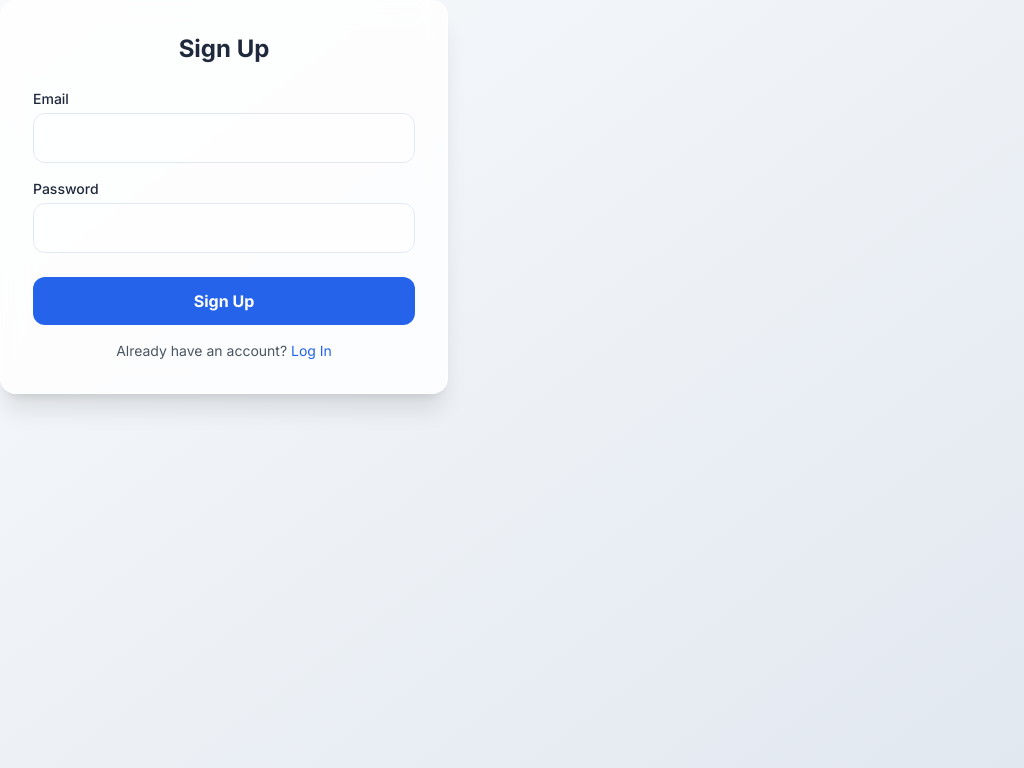
Test: auth flow › shows an error for duplicate signup email
The image size is (1024, 768).
Type "test@example.com" into the field with test id "auth-signup-email" at [224, 138], box [33, 113, 415, 163]
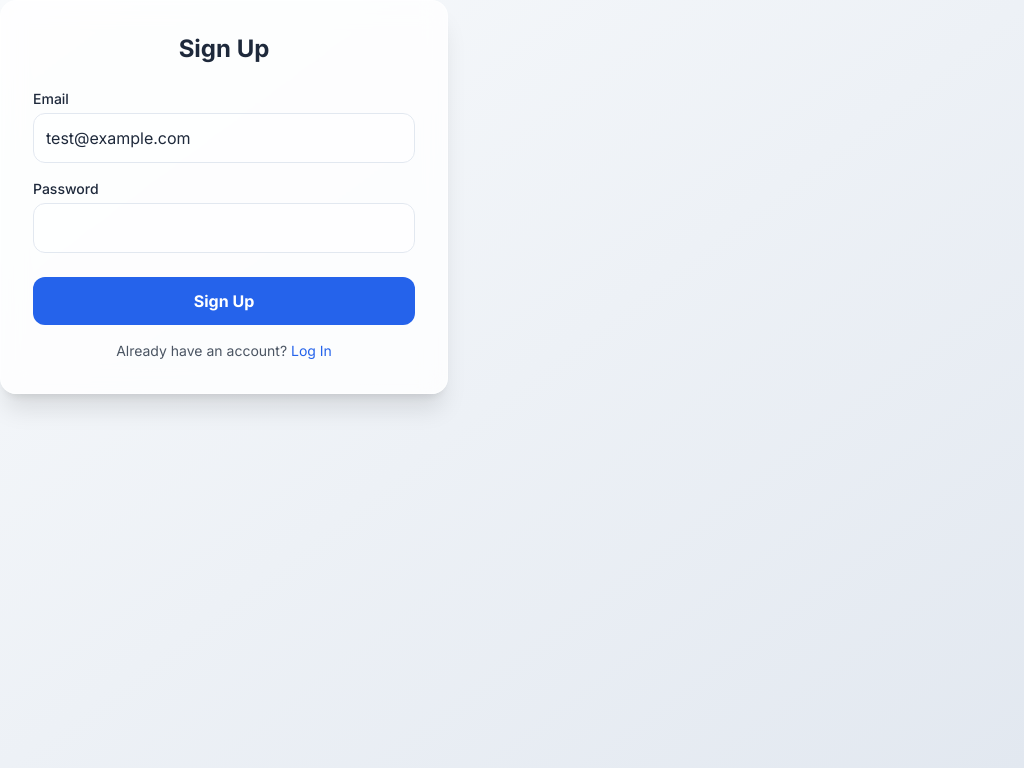
Type "newpassword" into the password field with test id "auth-signup-password" at [224, 228], box [33, 203, 415, 253]
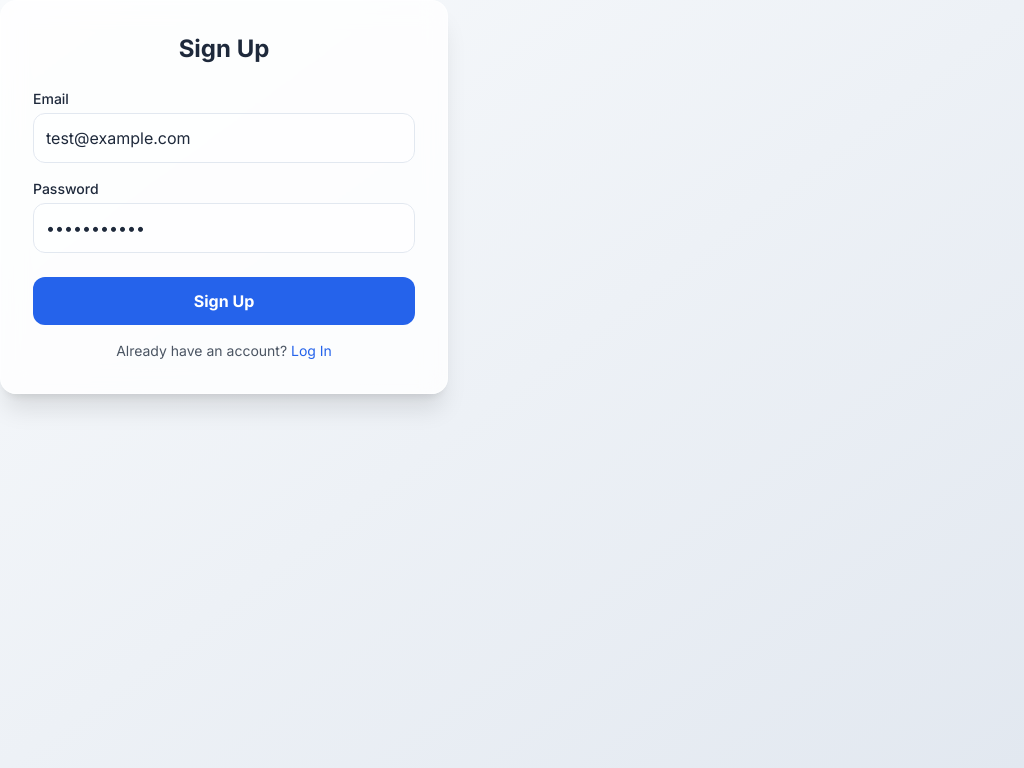
Click the button with test id "auth-signup-submit" at [224, 301], box [33, 277, 415, 325]
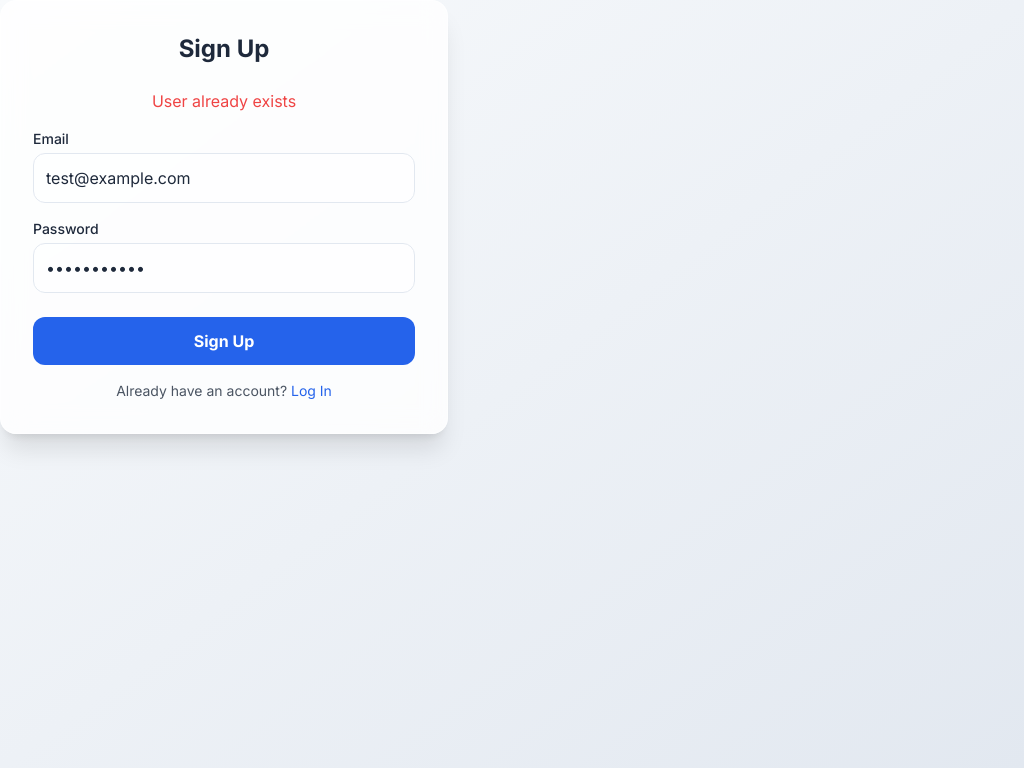
Check: the text "User already exists" is shown, box [152, 91, 296, 111]
